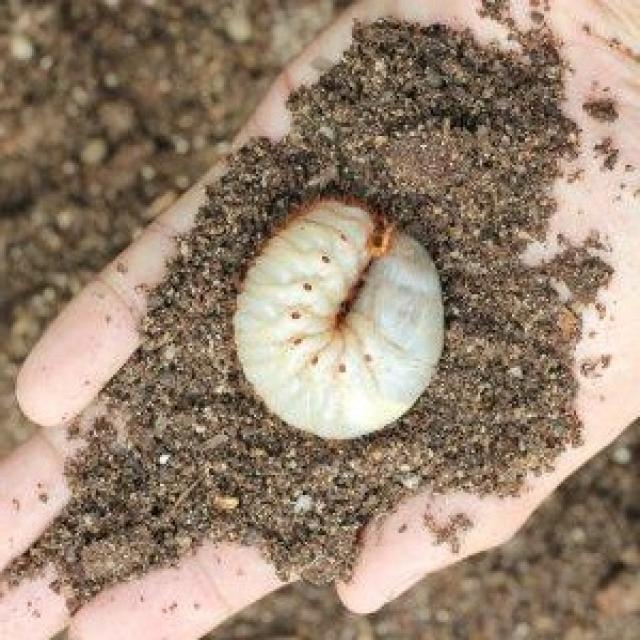grub: (229, 199, 447, 445)
